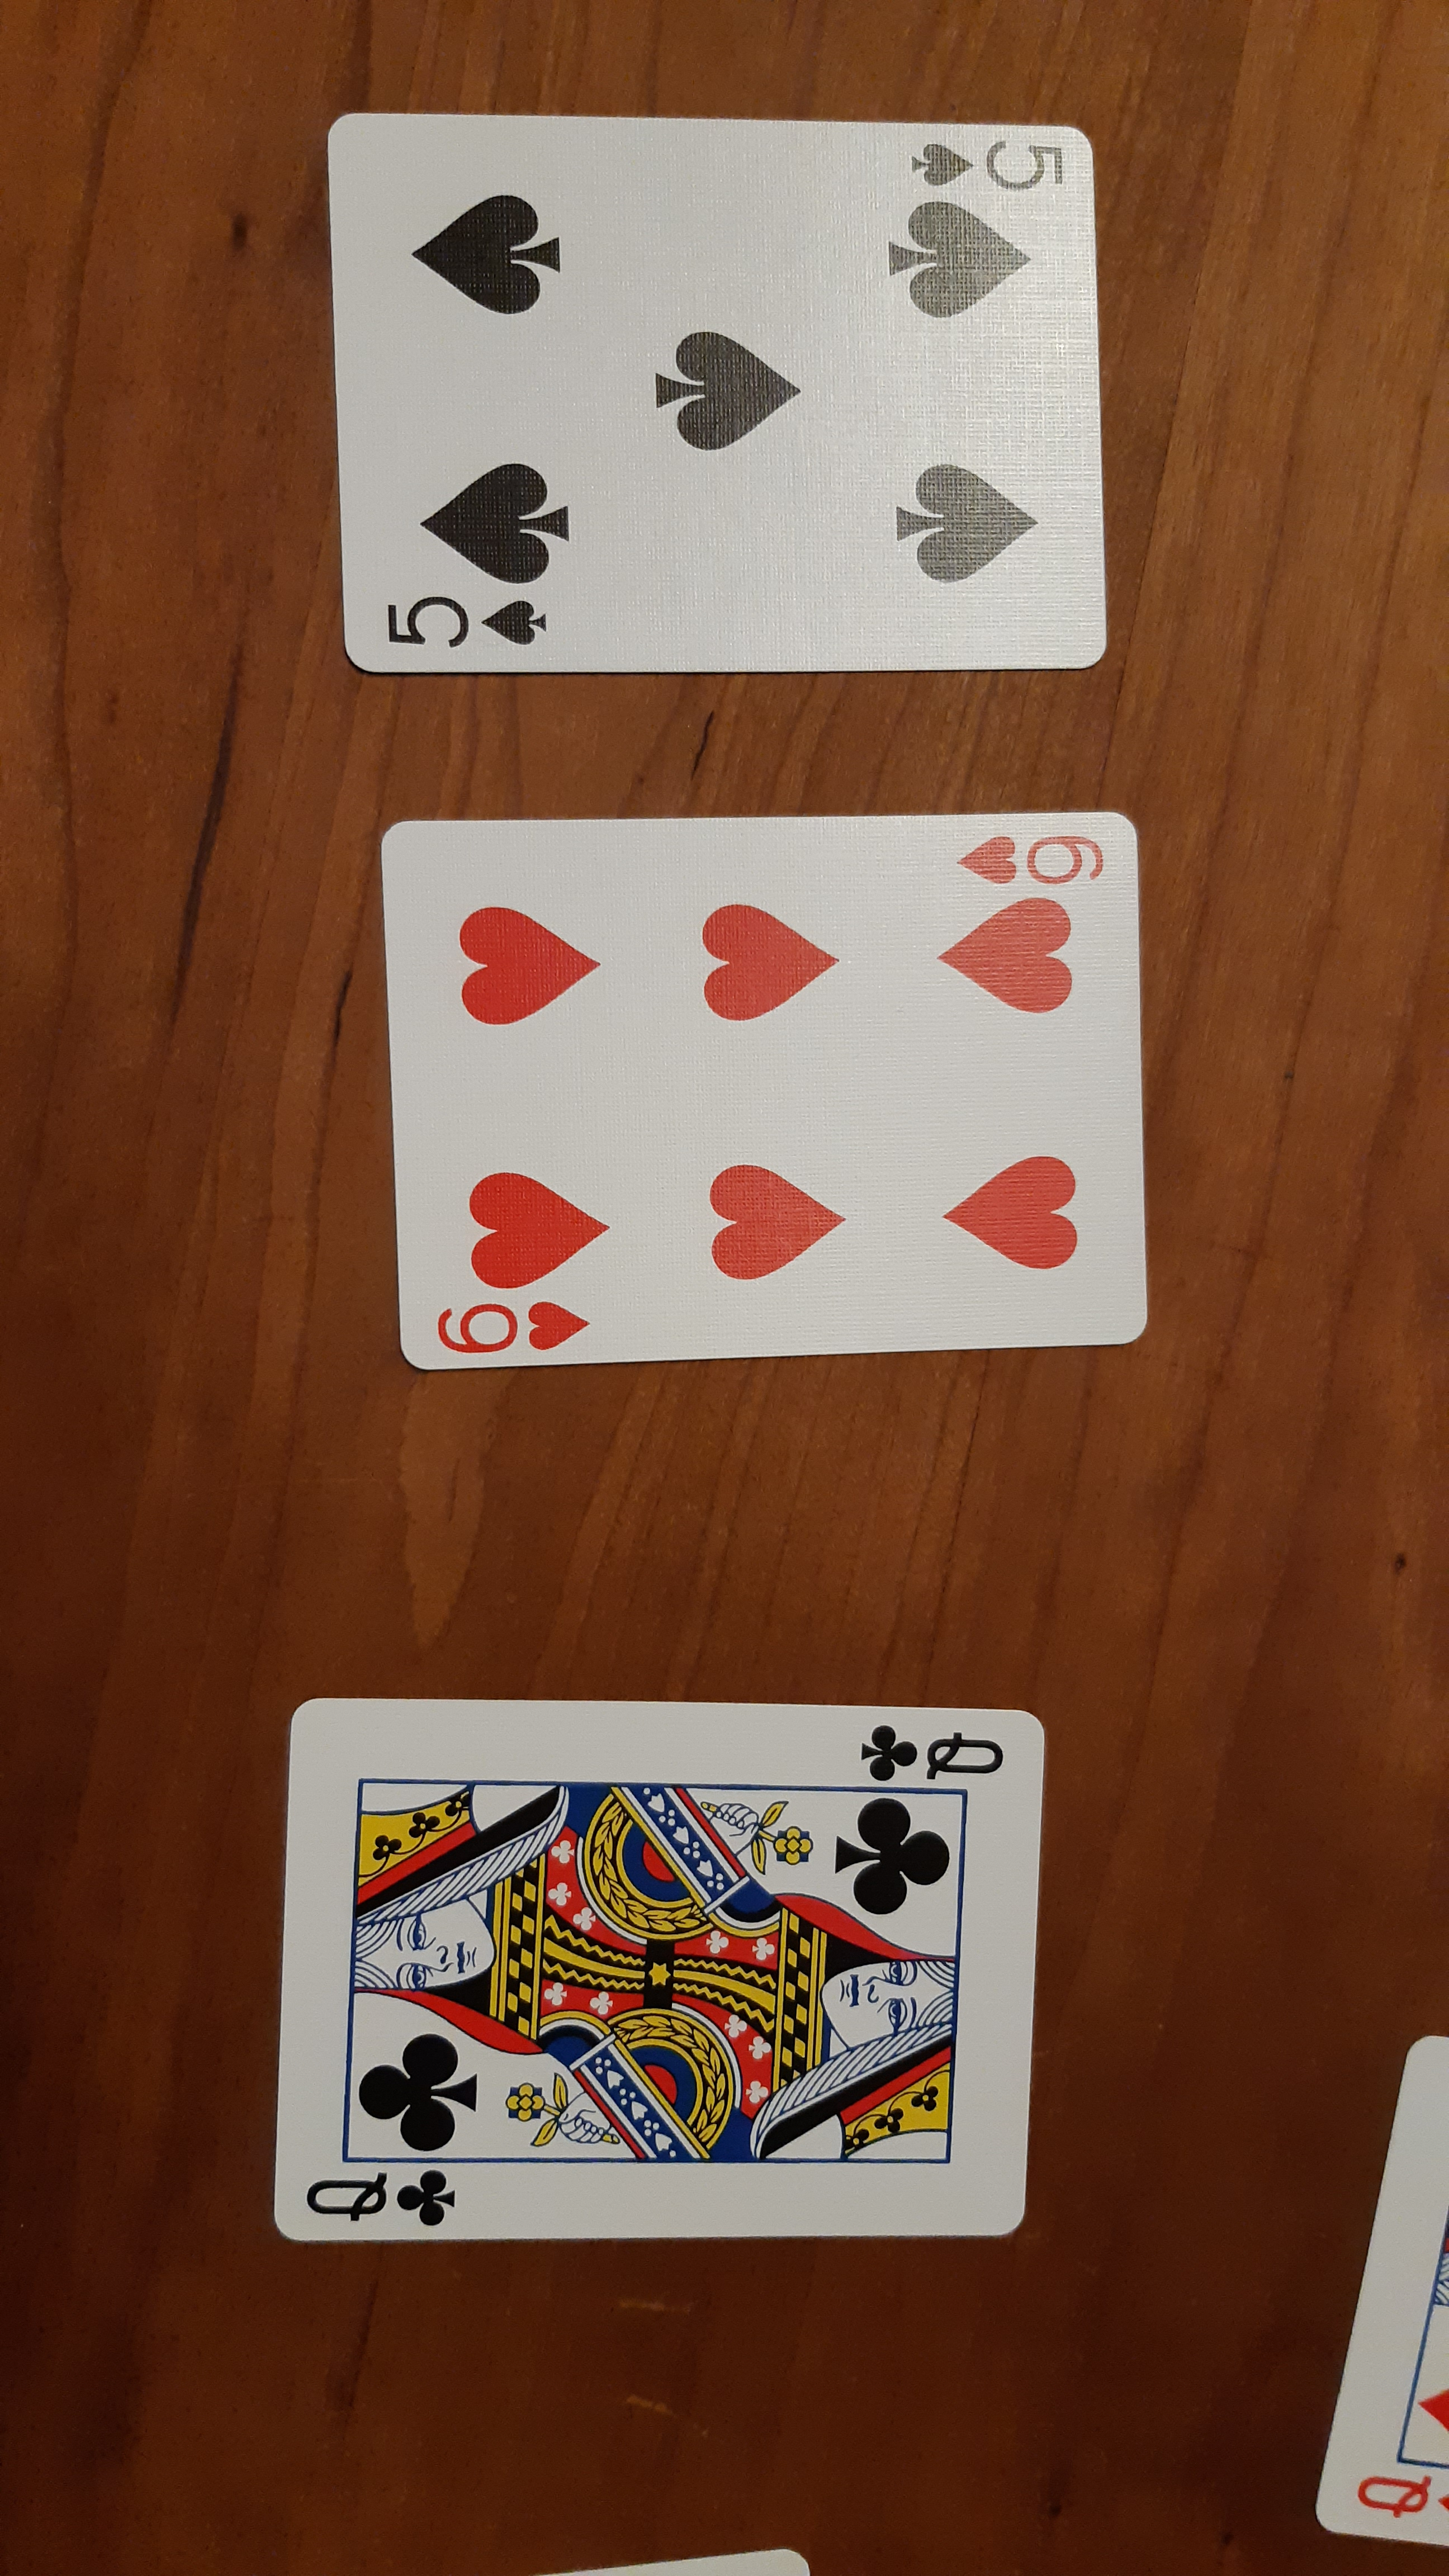Black_Club_Queen: (844, 1711, 1010, 1798), (292, 2160, 469, 2236)
Black_Spade_5: (361, 582, 561, 660), (901, 126, 1077, 200)
Red_Heart_6: (412, 823, 1118, 1364)
